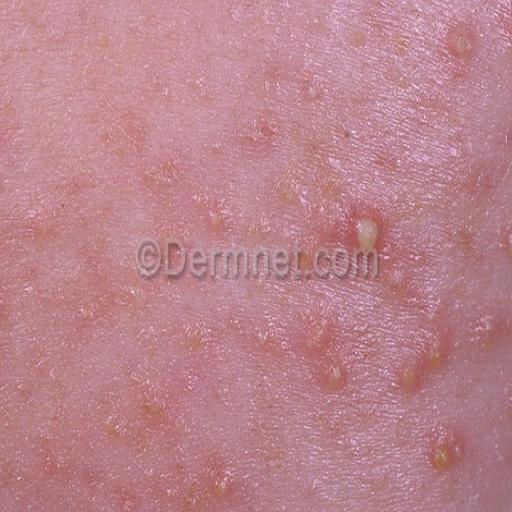Skin_Lesion: (348, 202, 388, 262), (431, 426, 471, 482), (274, 158, 303, 217), (444, 25, 481, 71), (296, 320, 340, 355), (156, 221, 191, 265), (182, 316, 211, 368), (201, 195, 233, 241), (38, 450, 68, 491), (19, 200, 55, 234), (472, 313, 501, 355), (390, 30, 419, 71), (384, 141, 411, 185), (131, 282, 157, 326), (139, 386, 165, 429), (450, 220, 476, 262), (138, 156, 168, 191), (424, 344, 450, 384), (180, 472, 206, 510), (432, 90, 456, 130), (247, 220, 275, 252), (391, 260, 409, 308), (214, 468, 233, 508), (96, 21, 115, 59), (398, 360, 419, 393), (250, 316, 270, 348), (406, 198, 427, 227), (328, 362, 347, 394), (469, 174, 493, 198), (128, 114, 147, 143), (151, 84, 176, 106), (74, 299, 92, 329), (421, 298, 441, 320), (260, 70, 278, 90), (307, 80, 319, 106), (263, 113, 274, 135), (109, 414, 119, 435)
